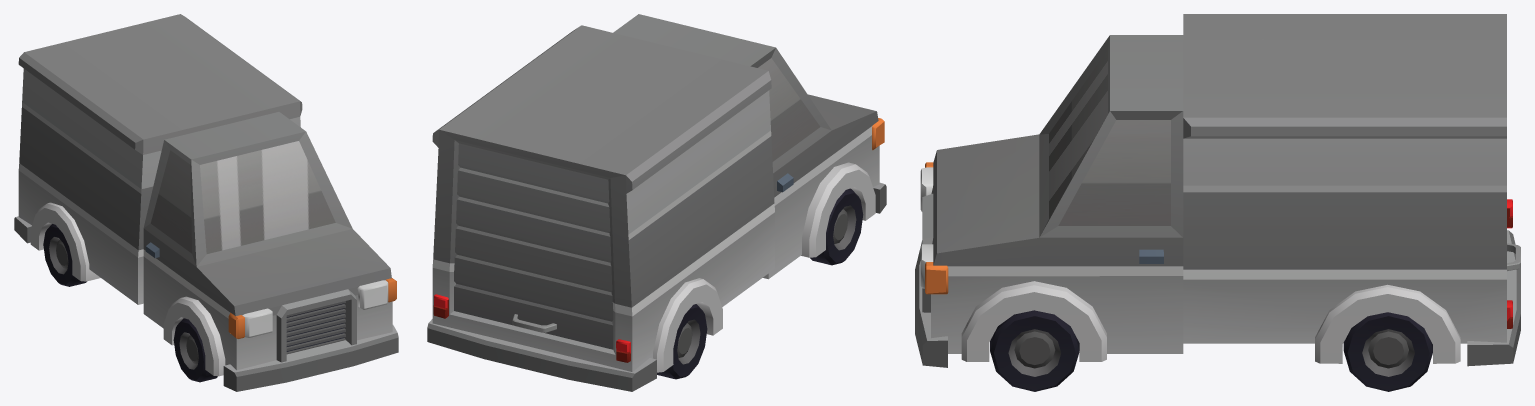
File: PostCar_11.fbx
The picture shows the model from 3 angles, left to right: view 1: azimuth 30°, elevation 25°; view 2: azimuth 150°, elevation 25°; view 3: azimuth 270°, elevation 25°; orthographic projection. The views are drawn at different scales.
Parts seen in each view (by area): view 1: PostCar_11, Wheel_FR, Wheel_BR; view 2: PostCar_11, Wheel_FR, Wheel_BR; view 3: PostCar_11, Wheel_FL, Wheel_BL.
Boxes of the visible parts, x1,y1,x2,y2 form: PostCar_11: (14,14,398,391); Wheel_FR: (173,318,217,382); Wheel_BR: (43,224,86,286); PostCar_11: (427,14,886,391); Wheel_FR: (810,188,863,265); Wheel_BR: (657,304,707,379); PostCar_11: (915,14,1520,367); Wheel_FL: (990,310,1079,391); Wheel_BL: (1343,312,1432,391).
Bounding box in the file's own units: 1.18 × 1.24 × 2.51.
